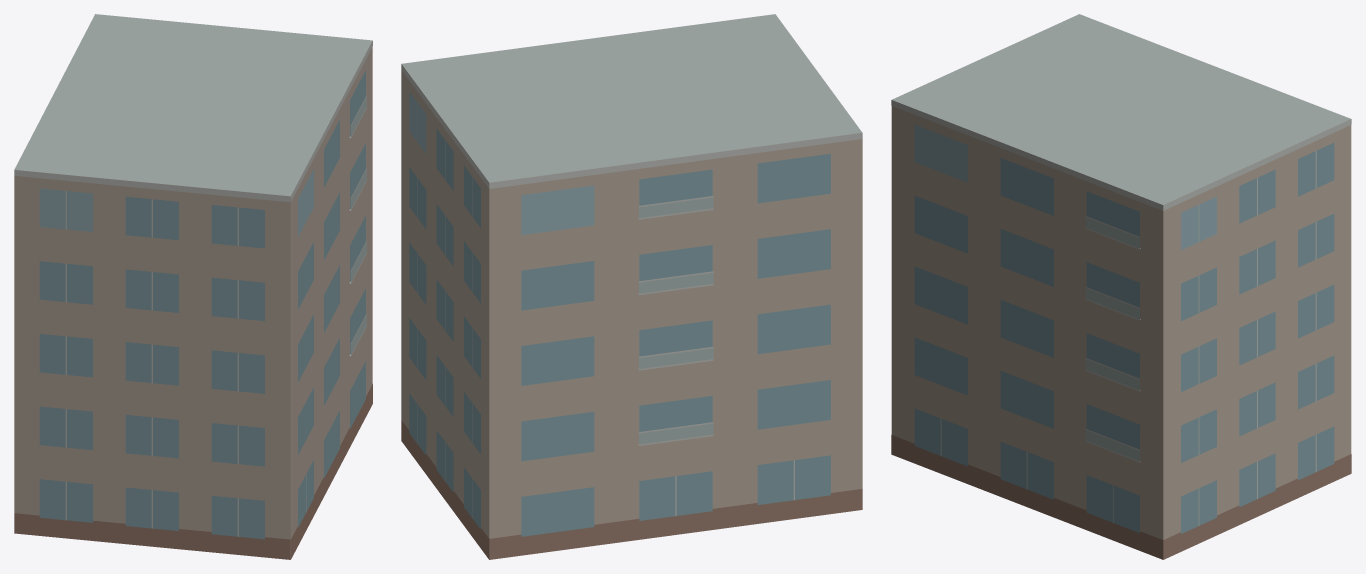
Rendered from survey-upis-32883694.glb.
The picture shows the model from 3 angles, left to right: view 1: azimuth 30°, elevation 25°; view 2: azimuth 150°, elevation 25°; view 3: azimuth 270°, elevation 25°; orthographic projection. The views are drawn at different scales.
Visible parts, largest first — view 1: survey-upis-32883694.tmp; view 2: survey-upis-32883694.tmp; view 3: survey-upis-32883694.tmp.
Boxes of the visible parts, x1,y1,x2,y2 form: survey-upis-32883694.tmp: (14, 14, 372, 559); survey-upis-32883694.tmp: (401, 14, 862, 559); survey-upis-32883694.tmp: (891, 14, 1351, 559).
Size of the model in its own units: 17.23 by 14.9 by 17.52.
